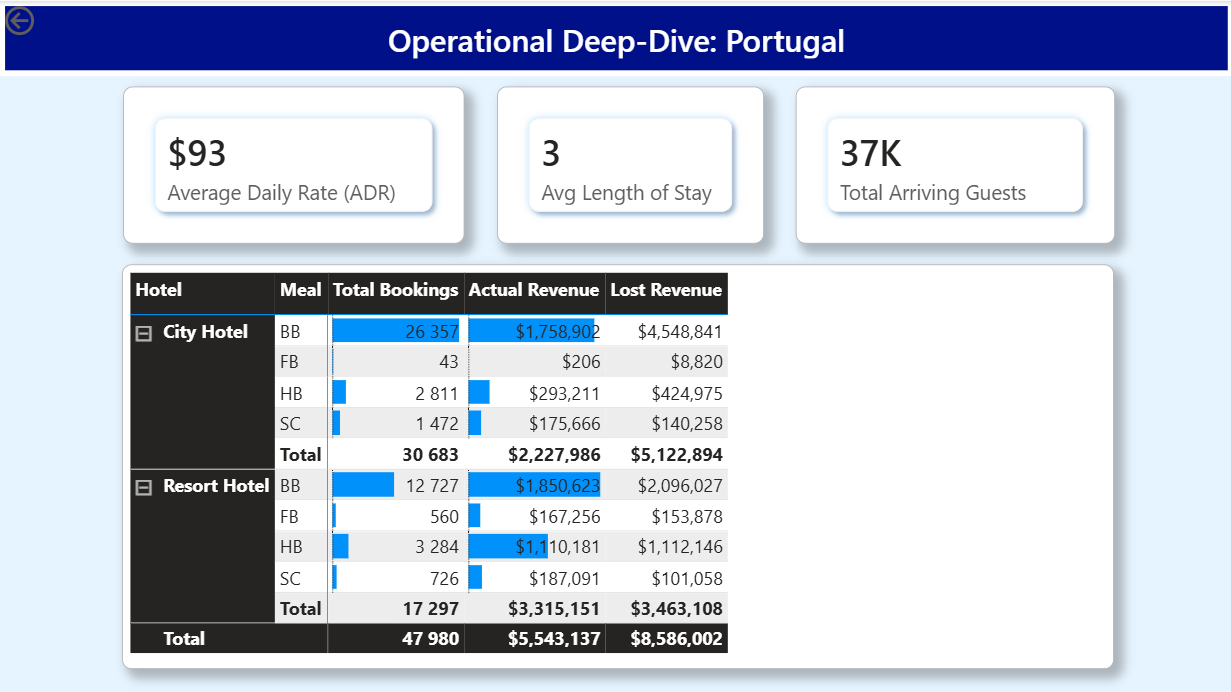

The dashboard page shown, as its layout file describes it:
{"tool":"powerbi","page":{"name":" Country Deep-Dive","canvas":[1280,720],"ordinal":3},"visuals":[{"type":"cardVisual","fields":{"Data":["_Key Measures.Drill-through Title"]},"box":[0,0,1280.5,77.8],"z":500},{"type":"cardVisual","fields":{"Data":["_Key Measures.Average Daily Rate (ADR)"]},"box":[128.1,89.1,354,163.2],"z":1000},{"type":"actionButton","box":[0,0,100,40],"z":2000},{"type":"cardVisual","fields":{"Data":["_Key Measures.Avg Length of Stay"]},"box":[516,89.1,277.4,163.2],"z":3000},{"type":"cardVisual","fields":{"Data":["_Key Measures.Total Arriving Guests"]},"box":[826.1,89.1,331.4,163.2],"z":4000},{"type":"pivotTable","fields":{"Rows":["Fact_Bookings.hotel","Dim_BookingAttributes.meal"],"Values":["_Key Measures.Total Bookings","_Key Measures.Actual Revenue","_Key Measures.Lost Revenue"]},"box":[126.8,273.7,1029.4,420.6],"z":5000}]}

Visuals, with their boxes in screenshot pixels (x1, y1, x2, y2), scaled from the page's 1280x720 canvas onto the 1231x692 screenshot:
cardVisual - _Key Measures.Drill-through Title: x1=0, y1=0, x2=1230, y2=75
cardVisual - _Key Measures.Average Daily Rate (ADR): x1=123, y1=86, x2=464, y2=242
actionButton: x1=0, y1=0, x2=96, y2=38
cardVisual - _Key Measures.Avg Length of Stay: x1=496, y1=86, x2=763, y2=242
cardVisual - _Key Measures.Total Arriving Guests: x1=794, y1=86, x2=1113, y2=242
pivotTable - Fact_Bookings.hotel x Dim_BookingAttributes.meal: x1=122, y1=263, x2=1112, y2=667
